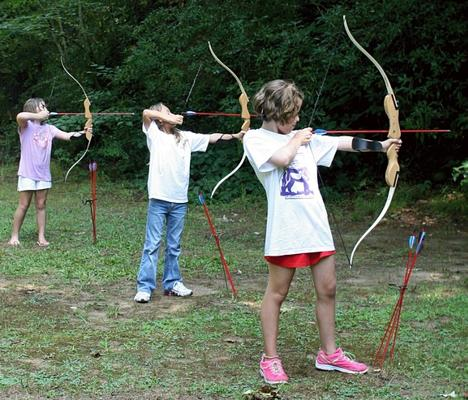person: (242, 78, 404, 382)
